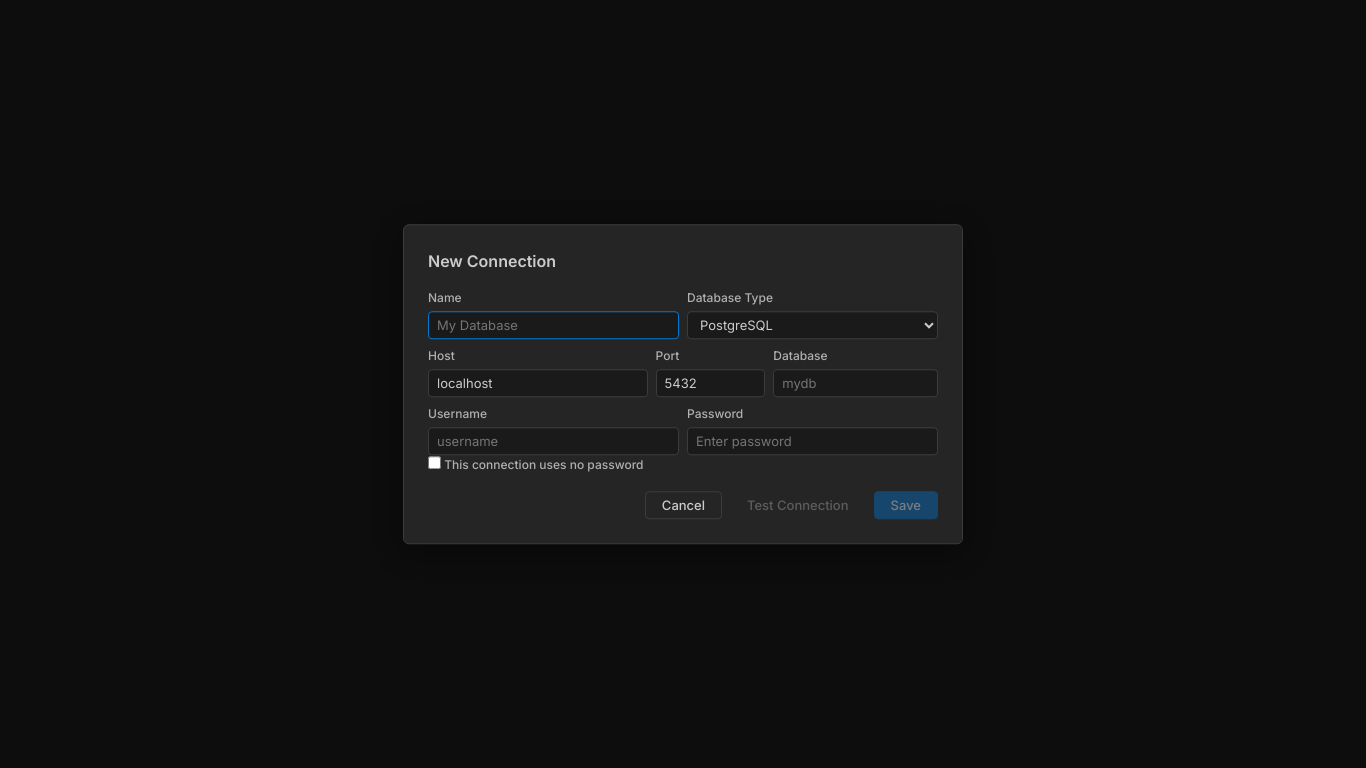
ConnectionDialog › shows the failure message when the connection test fails
Type "Test PG" into the field with placeholder "My Database" at {"x": 554, "y": 325}, box top-left (428, 311), bottom-right (679, 339)
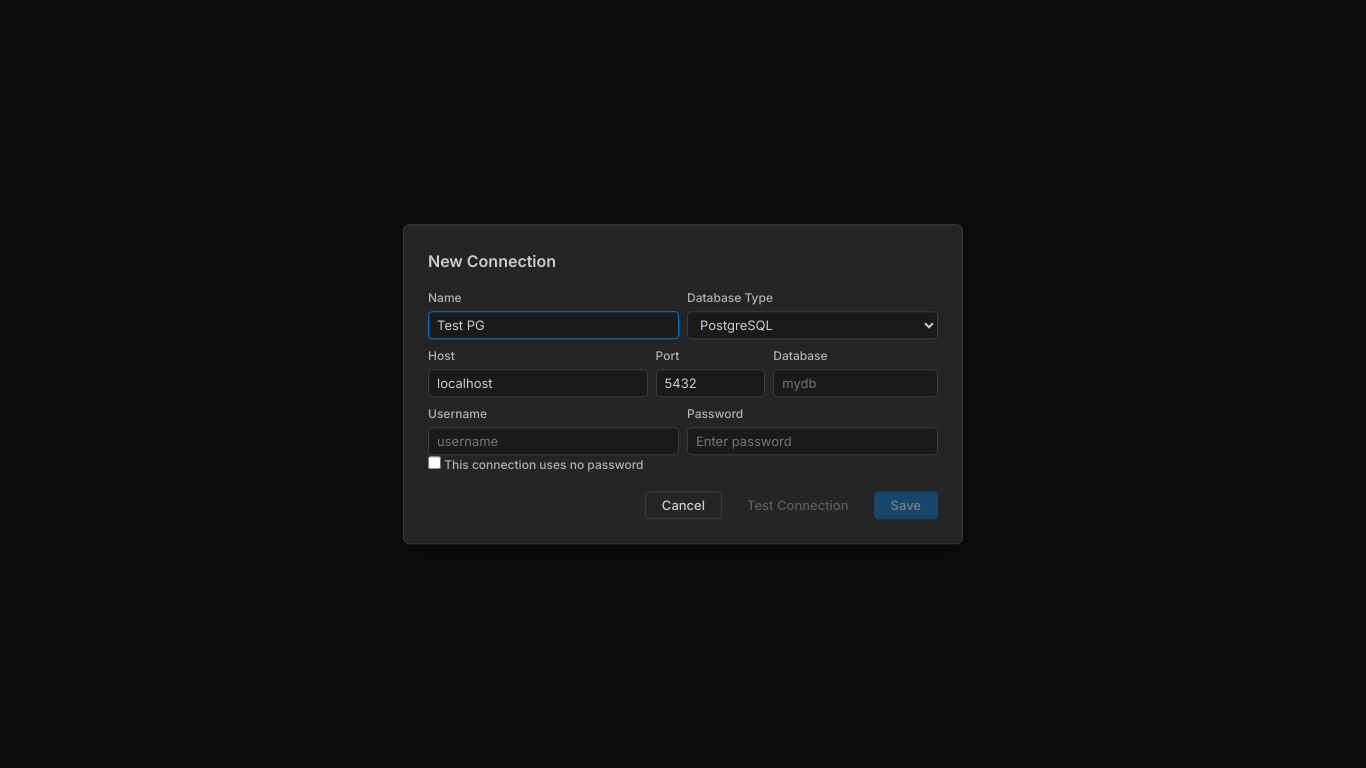
Type "testdb" into the field with placeholder "mydb" at {"x": 856, "y": 383}, box top-left (773, 369), bottom-right (938, 397)
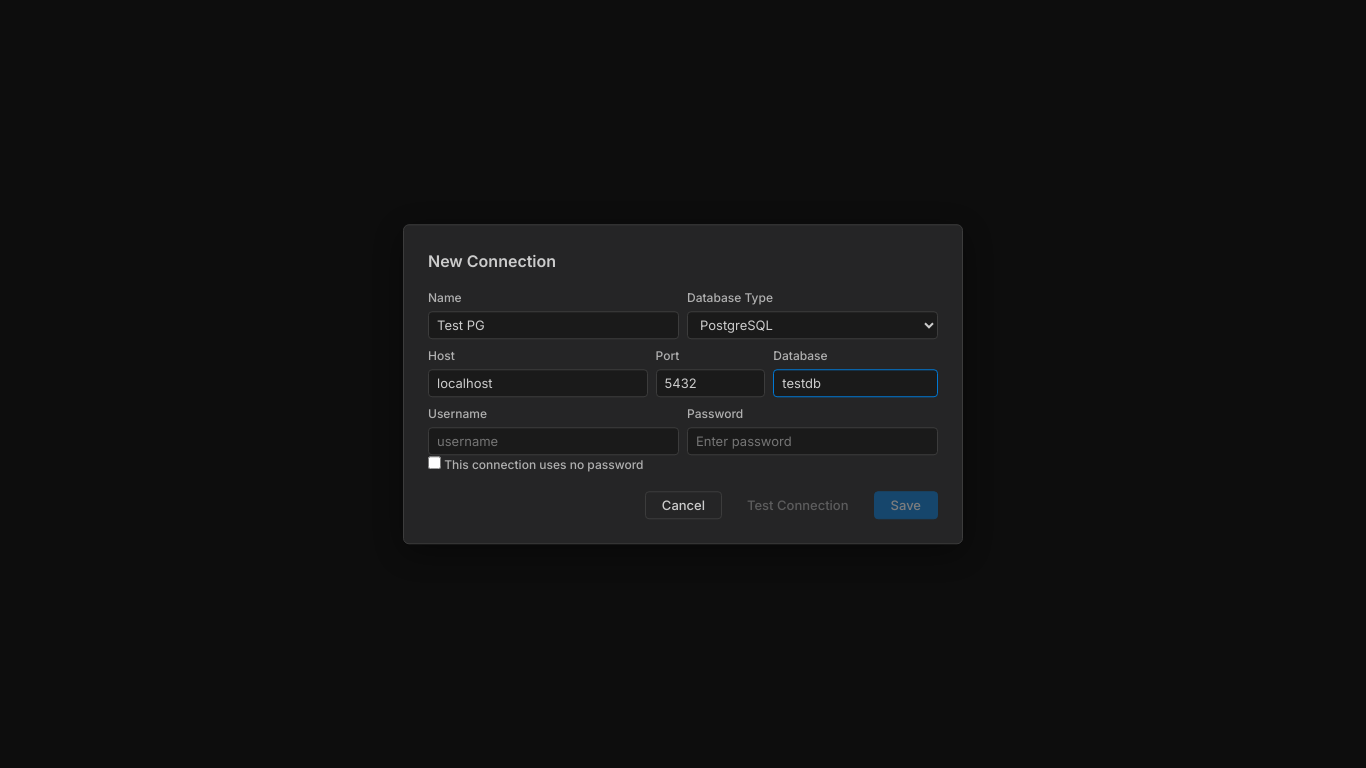
Type "test" into the field with placeholder "username" at {"x": 554, "y": 441}, box top-left (428, 427), bottom-right (679, 455)
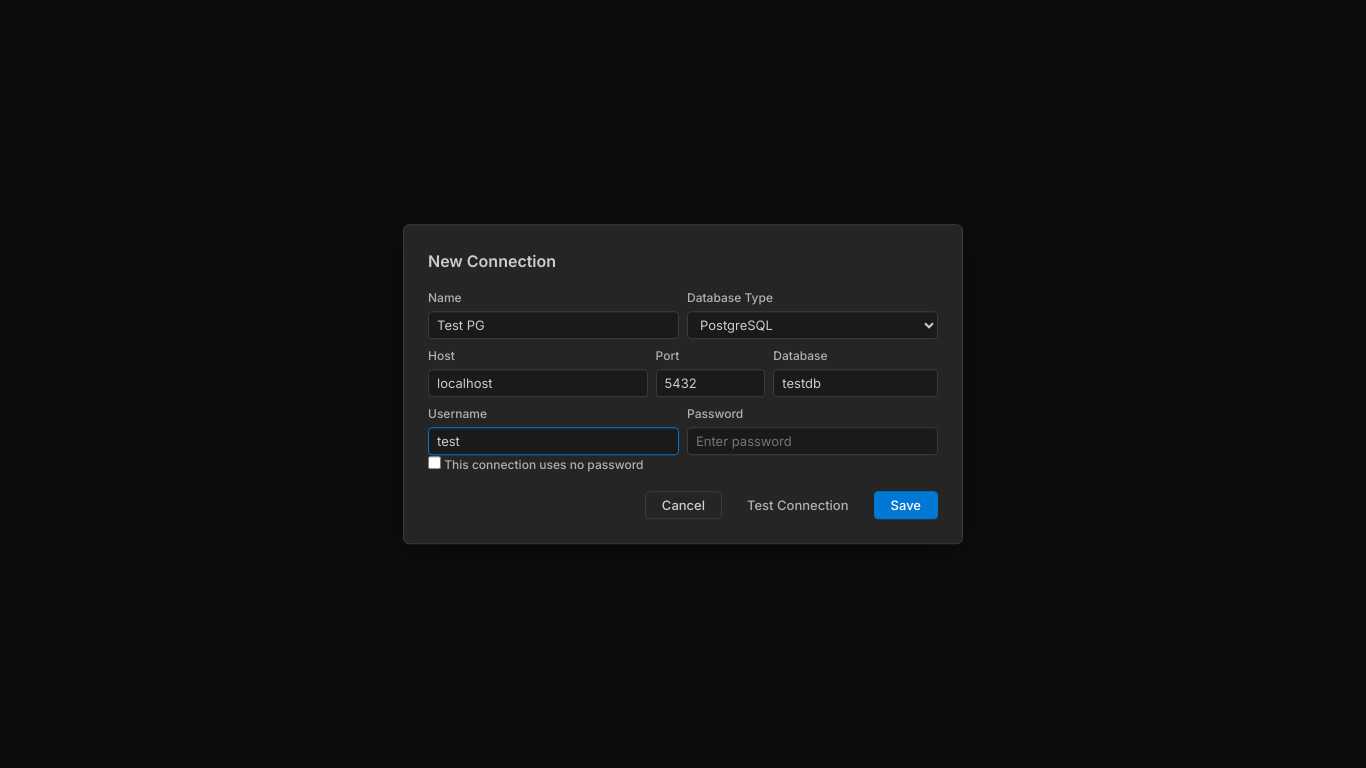
Click the button "Test Connection" at {"x": 798, "y": 505}, box top-left (730, 491), bottom-right (866, 519)
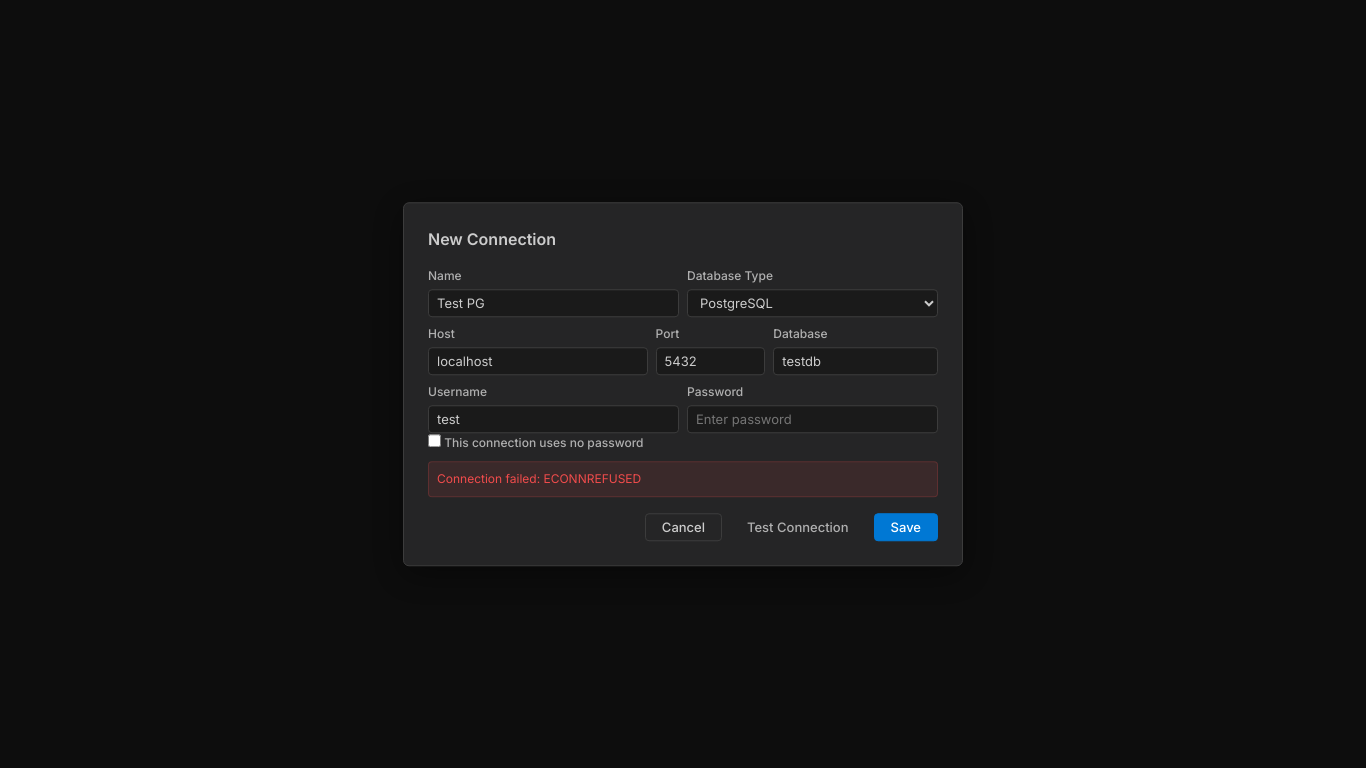
Check: the text "Connection failed: ECONNREFUSED" is shown, box top-left (428, 461), bottom-right (938, 497)
